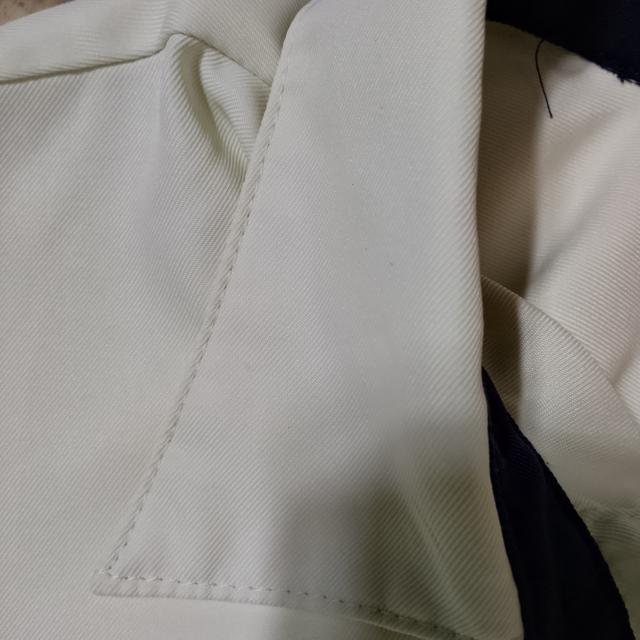education_male_uniform: (13, 5, 640, 640)
